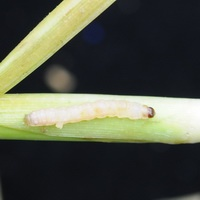insect: (0, 0, 199, 143), (24, 100, 154, 128)
